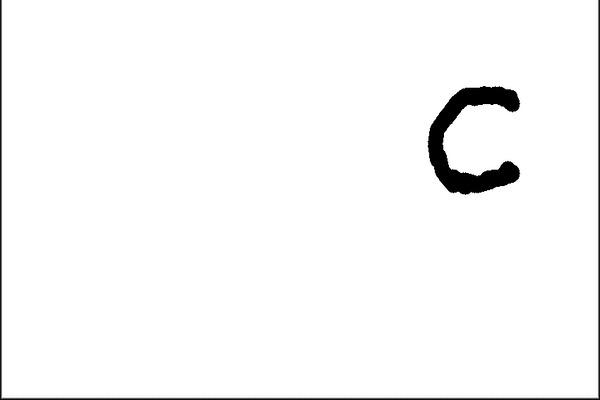C: (423, 77, 524, 197)
